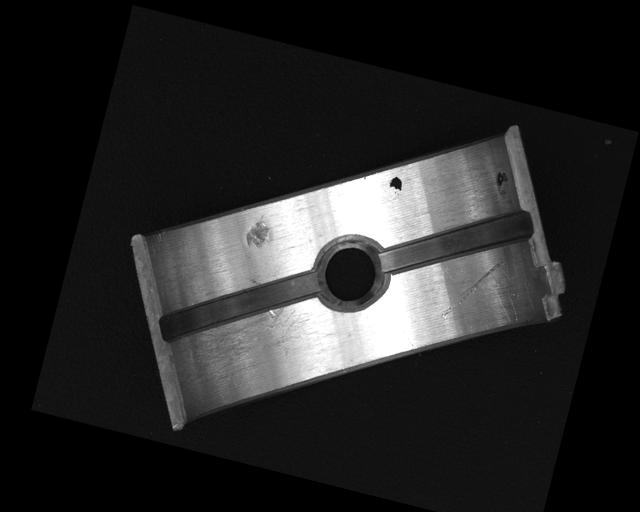blot: (493, 169, 511, 195), (387, 174, 404, 196)
bruise: (243, 211, 274, 251)
gap: (155, 237, 321, 373), (376, 178, 536, 305)
hole: (308, 226, 394, 318)
nick: (438, 247, 504, 330)
scratch: (185, 274, 310, 395)
